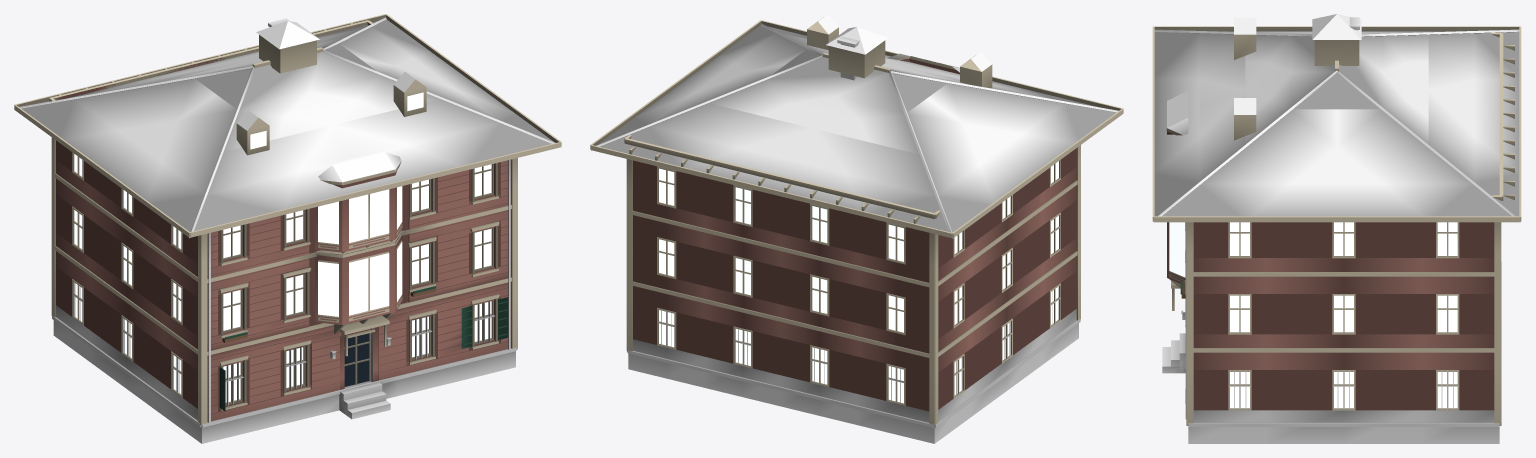
Rendered from bld_yali_c.glb.
The picture shows the model from 3 angles, left to right: view 1: azimuth 30°, elevation 25°; view 2: azimuth 150°, elevation 25°; view 3: azimuth 270°, elevation 25°; orthographic projection. The views are drawn at different scales.
Visible parts, largest first — view 1: LOD0; view 2: LOD0; view 3: LOD0.
Boxes of the visible parts, x1=… form: LOD0: x1=14, y1=14, x2=561, y2=443; LOD0: x1=590, y1=14, x2=1123, y2=443; LOD0: x1=1152, y1=14, x2=1521, y2=443.
Size of what is drawn, in the model's own units: 18.3 by 15.6 by 14.94.
